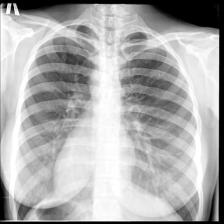tuberculosis: (7, 11, 208, 222)
